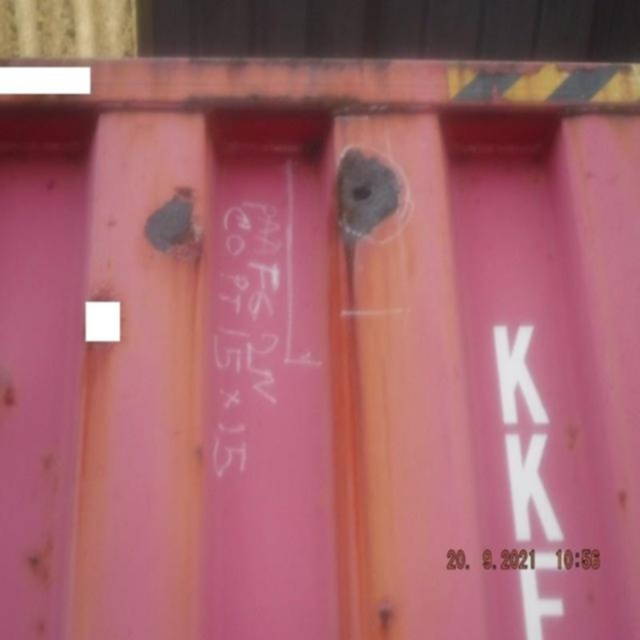Hole: (352, 181, 376, 206)
Rusty: (336, 146, 408, 250), (143, 192, 200, 254)
